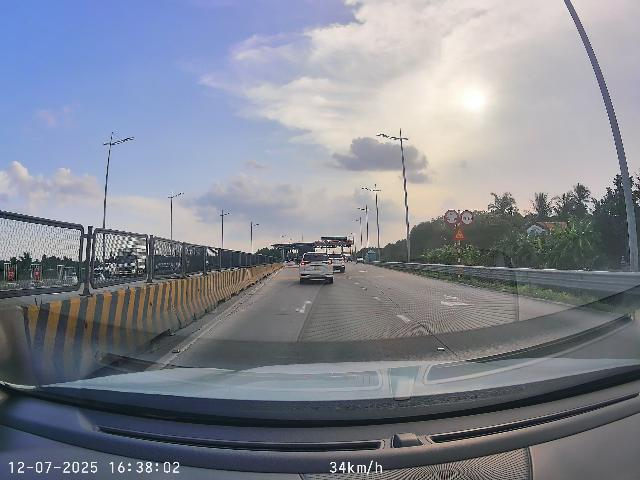125-cam-vuot: (460, 210, 474, 226)
